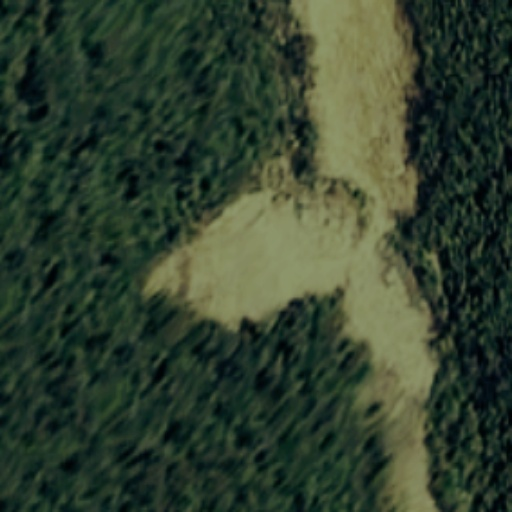landslide: (148, 1, 428, 512)
